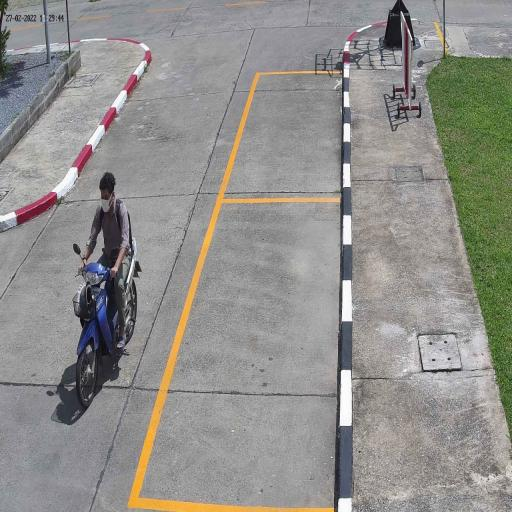motorcycle: (72, 260, 143, 410)
